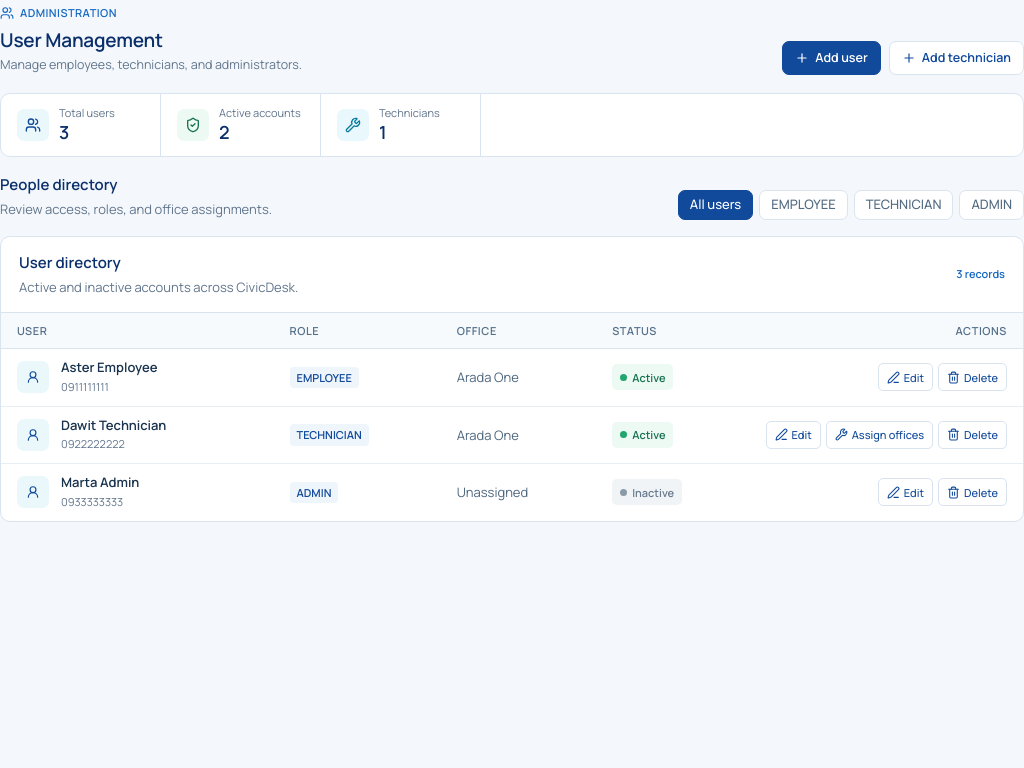
Scenario: UserManagement › confirms and deletes a user
Expected: the text "Aster Employee" is shown, [61,359,158,376]
Click the button "Delete" in the row of "Aster Employee" at (972, 377), box [938,363,1007,391]
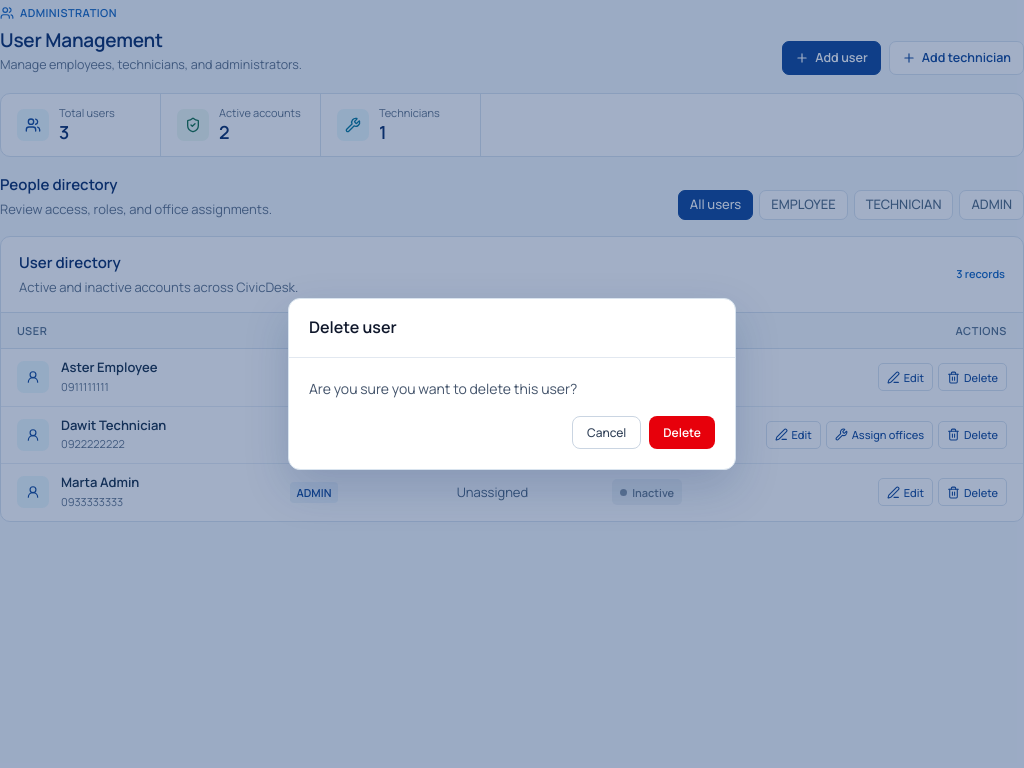
Now the text "Are you sure you want to delete this user?" is shown, box [309,378,577,398]
Click the button "Delete" at (682, 432), box [649,416,715,449]
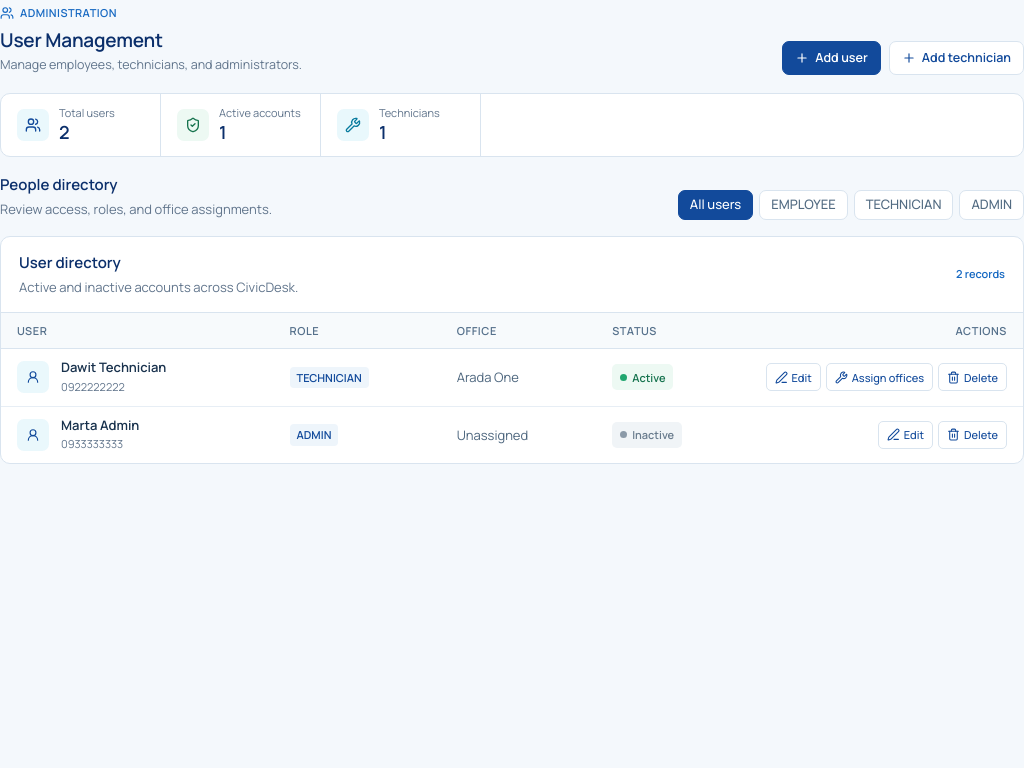
Now the text "Aster Employee" is gone
